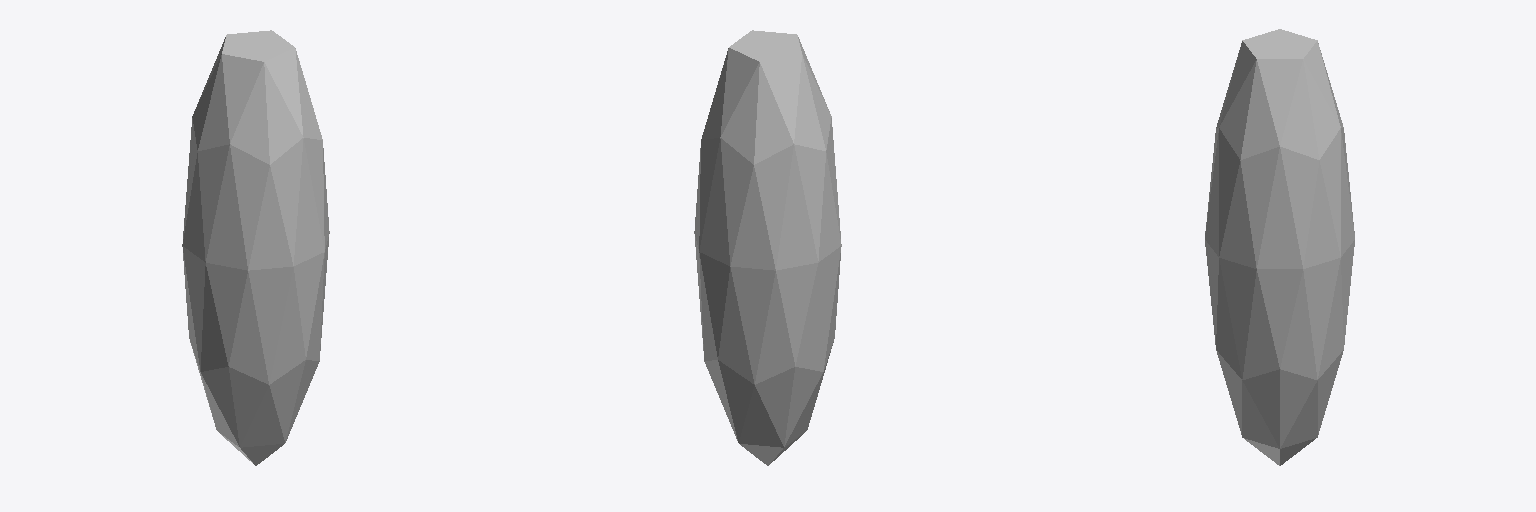
Rendered from fire.obj.
The picture shows the model from 3 angles: view 1: azimuth 30°, elevation 25°; view 2: azimuth 150°, elevation 25°; view 3: azimuth 270°, elevation 25°; orthographic projection.
Visible parts, largest first — view 1: ICO球; view 2: ICO球; view 3: ICO球.
Part boxes in pixels (bbox=[...]): ICO球: bbox=[182, 30, 329, 465]; ICO球: bbox=[694, 30, 841, 465]; ICO球: bbox=[1205, 29, 1354, 465].
Bounding box in the file's own units: 0.5706 × 1.85 × 0.6.